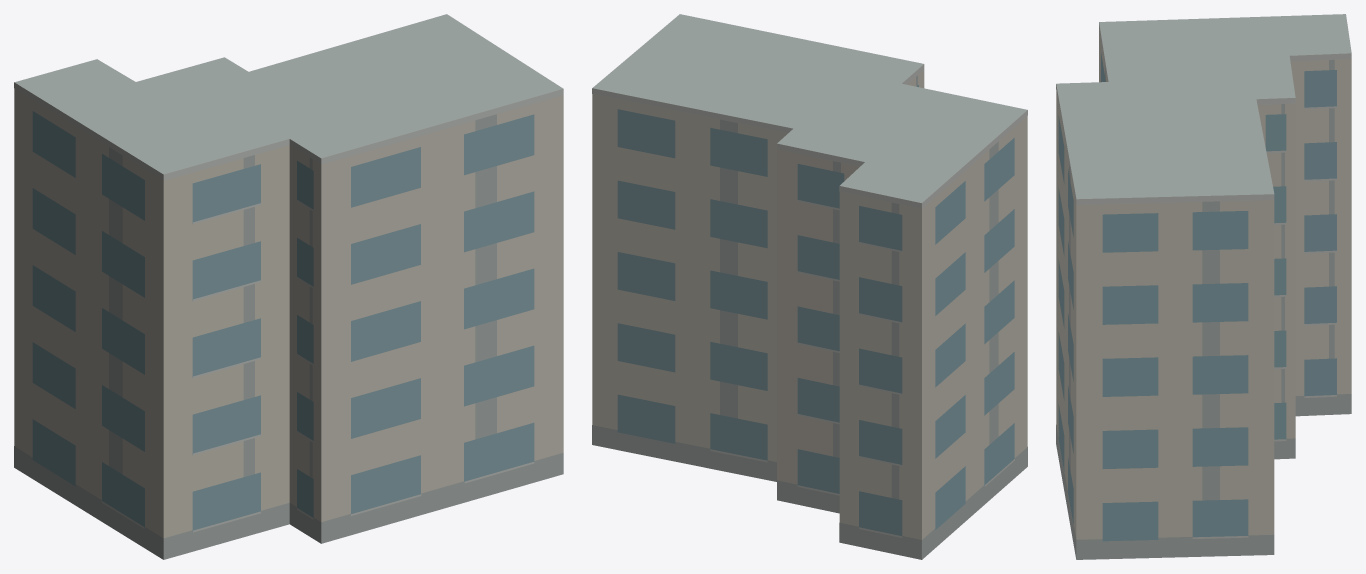
The model's file is survey-upis-32579884.glb.
The picture shows the model from 3 angles, left to right: view 1: azimuth 30°, elevation 25°; view 2: azimuth 150°, elevation 25°; view 3: azimuth 270°, elevation 25°; orthographic projection. The views are drawn at different scales.
Parts seen in each view (by area): view 1: survey-upis-32579884.tmp; view 2: survey-upis-32579884.tmp; view 3: survey-upis-32579884.tmp.
Part boxes in pixels (<box>): survey-upis-32579884.tmp: <box>14,14,563,559</box>; survey-upis-32579884.tmp: <box>592,14,1027,559</box>; survey-upis-32579884.tmp: <box>1056,14,1351,559</box>.
Size of the model in its own units: 16.8 by 15.25 by 11.33.
